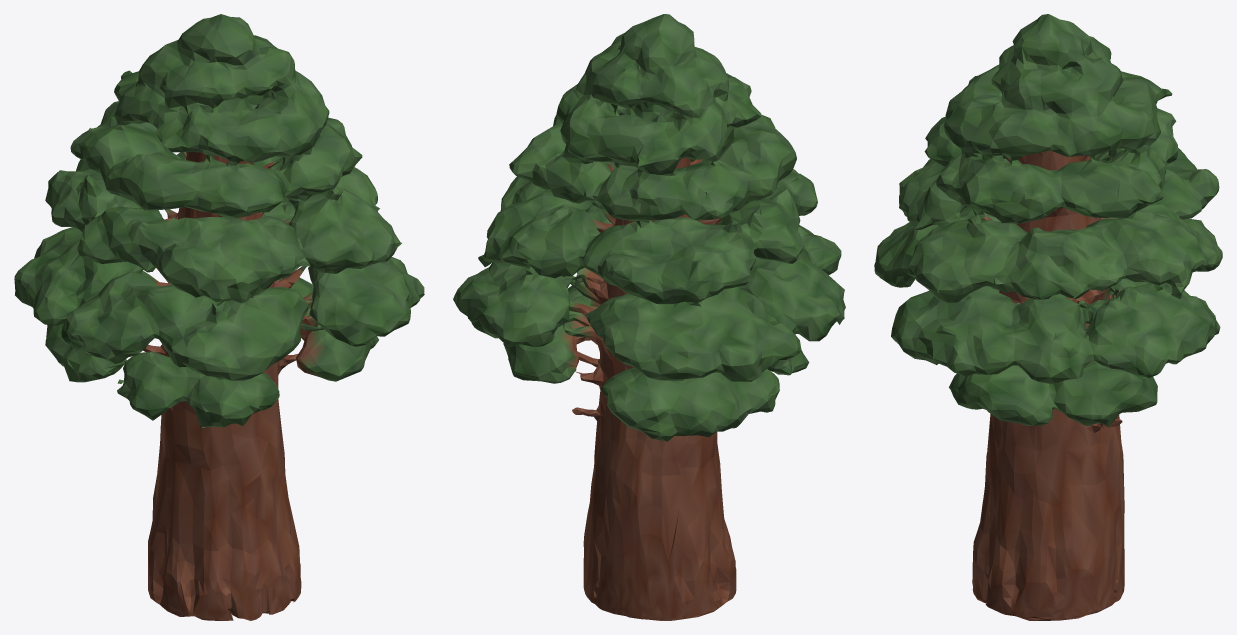
The model's file is sequoia_tree.glb.
3 views of the same model, side by side, from view 1: azimuth 30°, elevation 25°; view 2: azimuth 150°, elevation 25°; view 3: azimuth 270°, elevation 25° (orthographic).
Visible parts, largest first — view 1: world; view 2: world; view 3: world.
Part boxes in pixels (left/top/right/bottom): world: left=14, top=14, right=424, bottom=620; world: left=453, top=14, right=845, bottom=620; world: left=874, top=14, right=1222, bottom=620.
Size of the model in its own units: 6.02 by 10 by 5.5.
